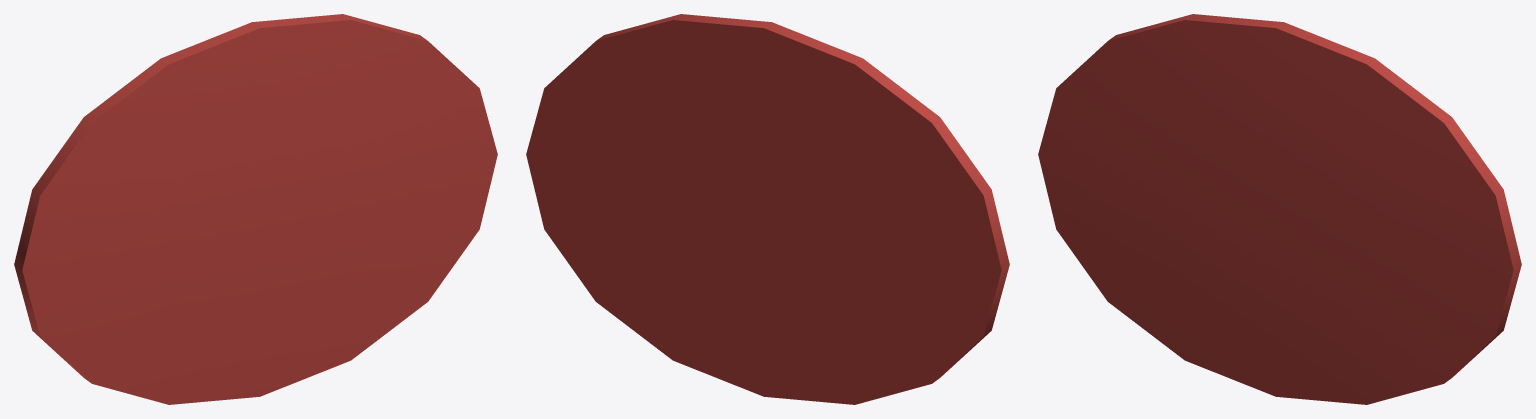
Rendered from oval_lod2.glb.
The picture shows the model from 3 angles, left to right: view 1: azimuth 30°, elevation 25°; view 2: azimuth 150°, elevation 25°; view 3: azimuth 330°, elevation 25°; orthographic projection.
Visible parts, largest first — view 1: oval_lod2; view 2: oval_lod2; view 3: oval_lod2.
Boxes of the visible parts, x1=… form: oval_lod2: x1=14, y1=14, x2=497, y2=404; oval_lod2: x1=526, y1=14, x2=1009, y2=404; oval_lod2: x1=1038, y1=14, x2=1521, y2=404.
Bounding box in the file's own units: 0.27 × 0.2 × 0.011.
